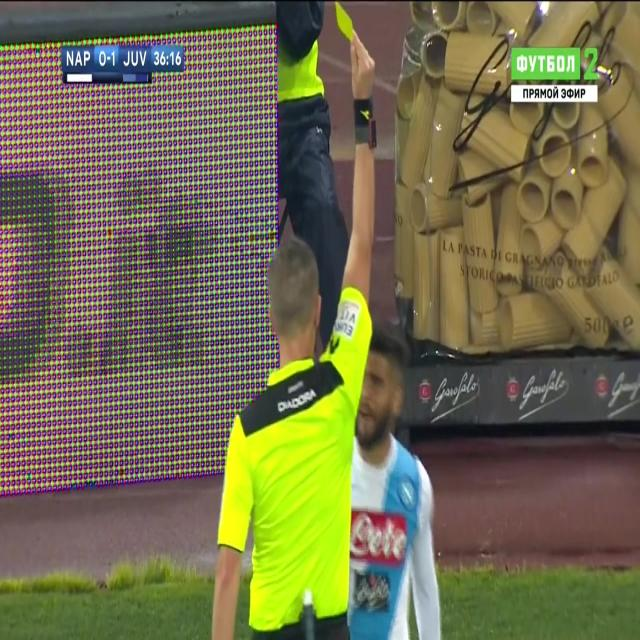Player: (348, 334, 446, 638)
Referee: (209, 26, 375, 640)
